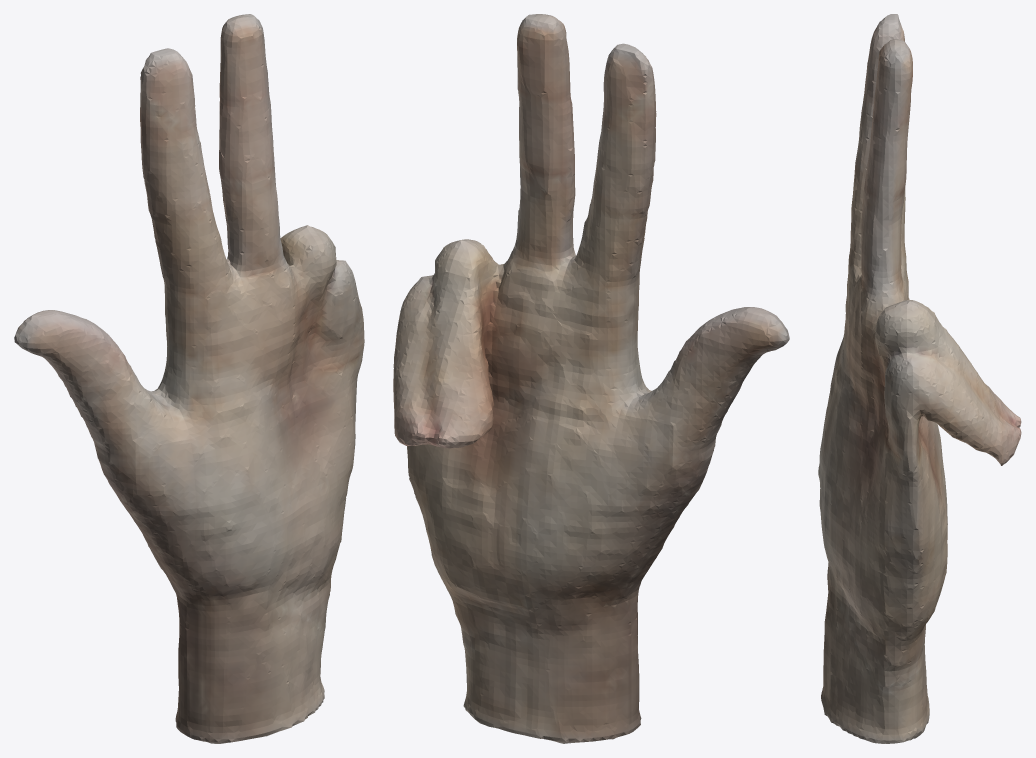
The model's file is ASL3.glb.
3 renders of one model, left to right at view 1: azimuth 30°, elevation 25°; view 2: azimuth 150°, elevation 25°; view 3: azimuth 270°, elevation 25°, orthographic. The views are drawn at different scales.
Visible parts, largest first — view 1: world; view 2: world; view 3: world.
Boxes of the visible parts, x1,y1,x2,y2 form: world: [14, 14, 364, 743]; world: [393, 14, 789, 743]; world: [818, 14, 1021, 743].
Size of the model in its own units: 1.09 by 2 by 0.5466.
